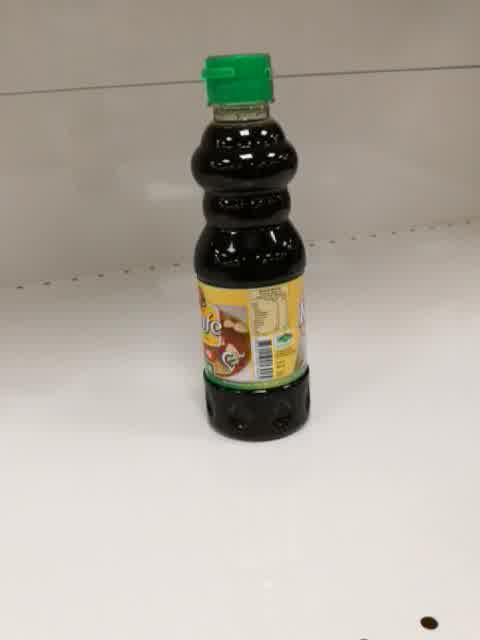cookingoil: (187, 47, 314, 443)
